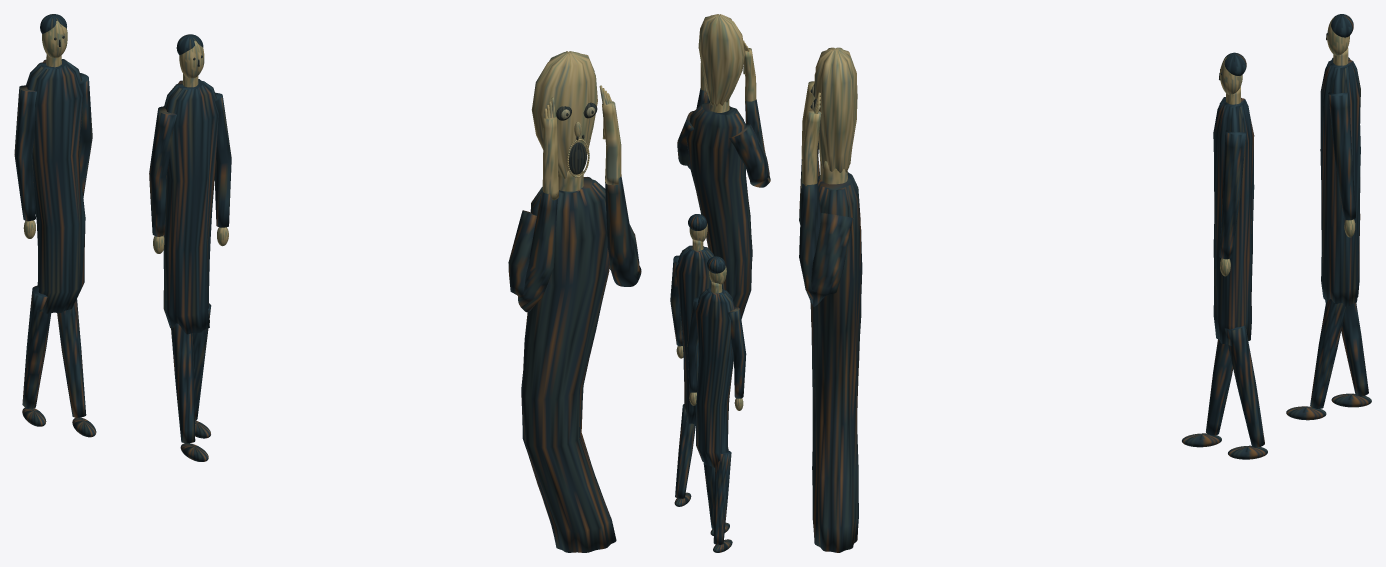
Rendered from three-figures-arranged.glb.
3 renders of one model, left to right at view 1: azimuth 30°, elevation 25°; view 2: azimuth 150°, elevation 25°; view 3: azimuth 270°, elevation 25°, orthographic. The views are drawn at different scales.
Visible parts, largest first — view 1: Foreground figure painted mesh, Distant walker 2 painted mesh, Distant walker 1 painted mesh; view 2: Foreground figure painted mesh, Distant walker 2 painted mesh, Distant walker 1 painted mesh; view 3: Foreground figure painted mesh, Distant walker 2 painted mesh, Distant walker 1 painted mesh.
Part boxes in pixels (bbox=[...]): Foreground figure painted mesh: bbox=[508, 51, 641, 552]; Distant walker 2 painted mesh: bbox=[14, 14, 96, 437]; Distant walker 1 painted mesh: bbox=[149, 34, 231, 461]; Foreground figure painted mesh: bbox=[677, 14, 770, 319]; Distant walker 2 painted mesh: bbox=[687, 256, 746, 552]; Distant walker 1 painted mesh: bbox=[670, 214, 724, 506]; Foreground figure painted mesh: bbox=[799, 47, 862, 552]; Distant walker 2 painted mesh: bbox=[1286, 14, 1371, 420]; Distant walker 1 painted mesh: bbox=[1182, 52, 1267, 459].
Size of the model in its own units: 1.31 by 1.75 by 1.87.
